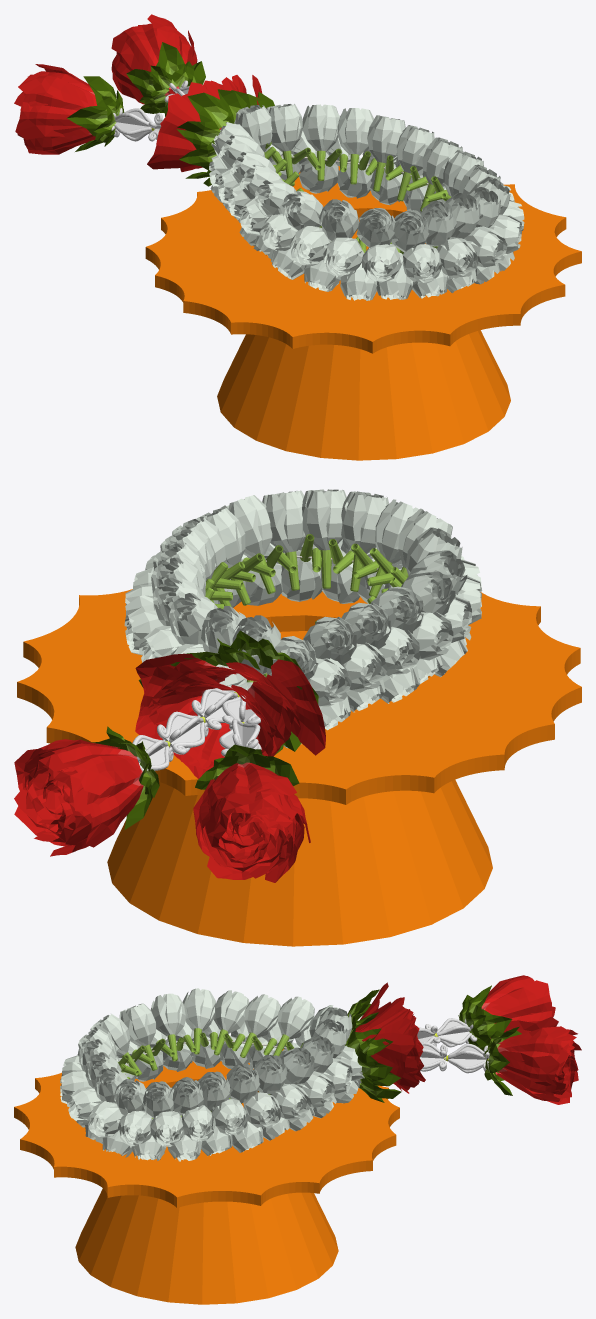
The model's file is garland.glb.
3 views of the same model, one above another, from view 1: azimuth 30°, elevation 25°; view 2: azimuth 150°, elevation 25°; view 3: azimuth 270°, elevation 25° (orthographic). The views are drawn at different scales.
Parts seen in each view (by area): view 1: G-Object.351, C-Group#37.020, C-Group#40.008, C-Group#40.007, C-Group#40.001, C-Group#40.010, C-Group#52.031, C-Group#40.003, C-Group#52.009, C-Group#40.002, C-Group#52.018, C-Group#35.313 (+7 smaller); view 2: G-Object.351, C-Group#40.001, C-Group#37.020, C-Group#40.002, C-Group#40.007, C-Group#40.009, C-Group#37.003, C-Group#35.371, C-Group#35.336, C-Group#35.294, C-Group#35.342, C-Group#41.009 (+27 smaller); view 3: G-Object.351, C-Group#40.009, C-Group#40, C-Group#40.003, C-Group#37.015, C-Group#40.007, C-Group#52.024, C-Group#52.017, C-Group#35.310, C-Group#37.016, C-Group#35.274, C-Group#35.286 (+9 smaller).
Boxes of the visible parts, x1,y1,x2,y2 form: G-Object.351: (145,166,581,460); C-Group#37.020: (147,93,200,169); C-Group#40.008: (15,92,97,139); C-Group#40.007: (18,71,96,107); C-Group#40.001: (111,23,159,71); C-Group#40.010: (23,102,95,154); C-Group#52.031: (187,92,228,134); C-Group#40.003: (147,14,191,64); C-Group#52.009: (177,121,220,149); C-Group#40.002: (111,52,143,100); C-Group#52.018: (67,102,107,137); C-Group#35.313: (345,108,365,154); G-Object.351: (17,589,581,946); C-Group#40.001: (39,743,141,795); C-Group#37.020: (271,659,325,755); C-Group#40.002: (73,767,143,847); C-Group#40.007: (212,762,296,811); C-Group#40.009: (199,763,238,852); C-Group#37.003: (135,666,183,736); C-Group#35.371: (306,491,330,550); C-Group#35.336: (228,498,263,554); C-Group#35.294: (279,491,306,551); C-Group#35.342: (381,501,413,562); C-Group#41.009: (213,791,296,827); G-Object.351: (14,1049,399,1304); C-Group#40.009: (485,980,552,1023); C-Group#40: (498,1050,559,1096); C-Group#40.003: (497,1026,569,1061); C-Group#37.015: (362,1032,414,1090); C-Group#40.007: (481,975,534,1010); C-Group#52.024: (473,1008,512,1040); C-Group#52.017: (357,1051,392,1081); C-Group#35.310: (127,1006,149,1045); C-Group#37.016: (378,1017,418,1087); C-Group#35.274: (223,991,246,1031); C-Group#35.286: (162,993,181,1034).
Bounding box in the file's own units: 0.2573 × 0.1683 × 0.3791.
Materials: 17 (1 with a texture image).
